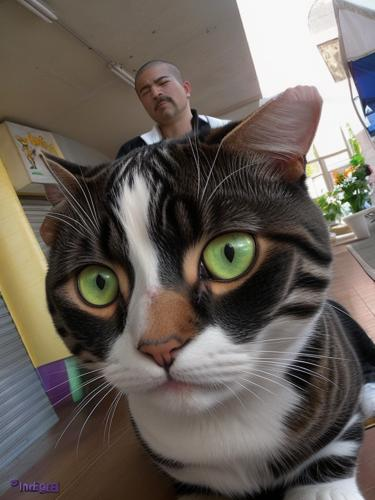cat: (45, 100, 365, 500)
person: (39, 61, 375, 500)
person/foot: (342, 382, 375, 427)
person/hand: (277, 85, 322, 126), (38, 214, 80, 248)
person/head: (135, 60, 191, 125)
